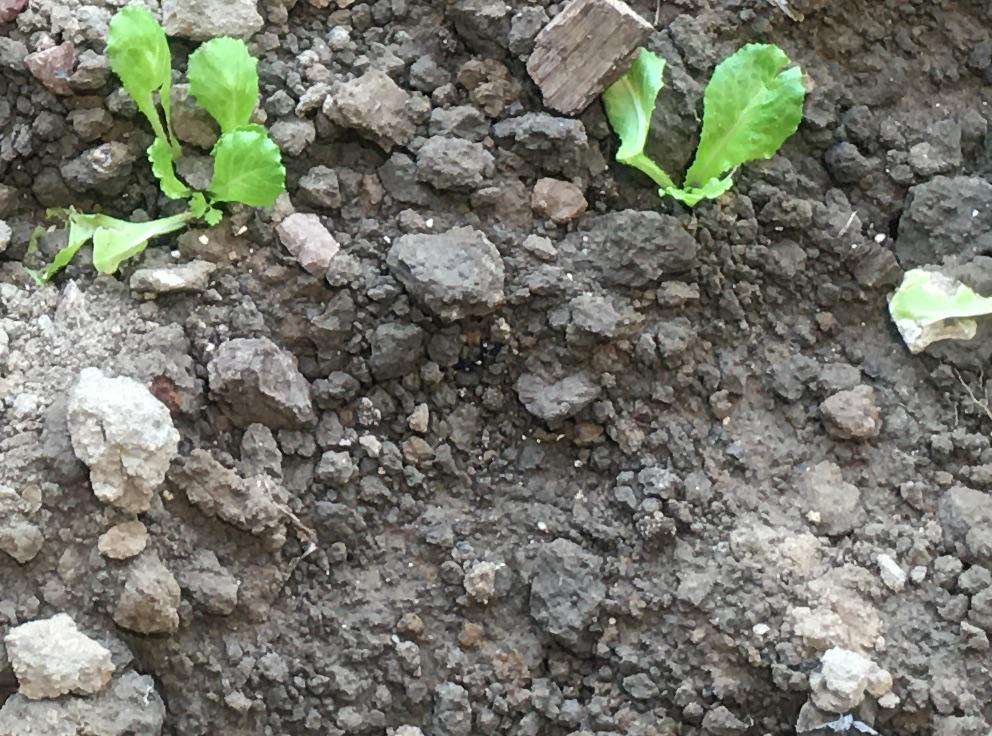block: (65, 365, 172, 514), (389, 224, 504, 322), (200, 332, 314, 428), (3, 615, 115, 698)
